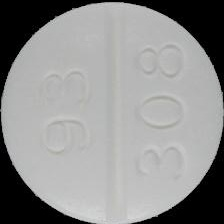51655-425: (0, 0, 224, 224)
